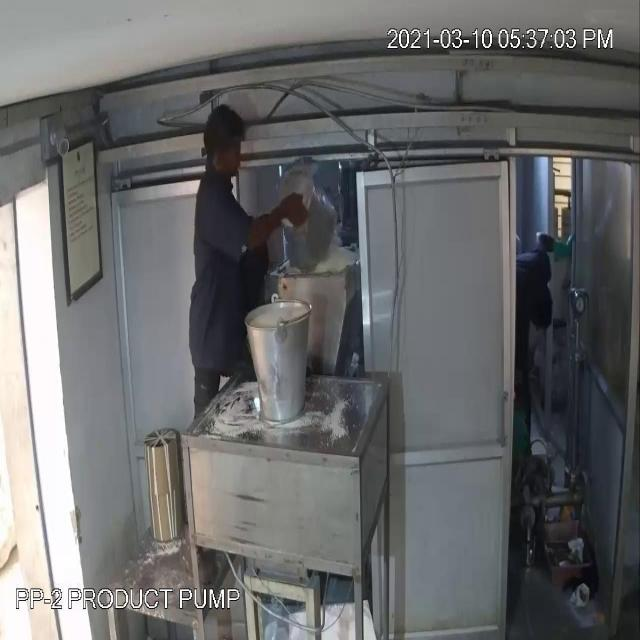No_Gloves: (242, 187, 310, 248)
